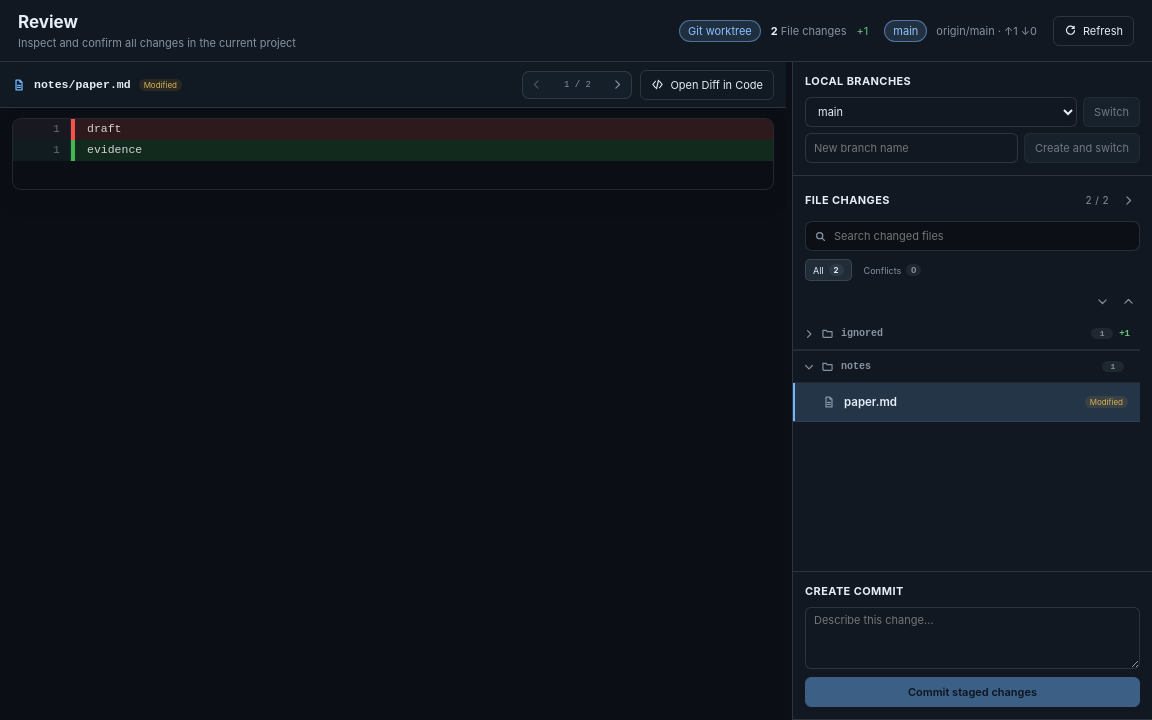
Scenario: GitWorkspace › shows ledger-only files inside a Git worktree
Step 1. Click the button titled "ignored" → x=862, y=334, box [793,318,1140,349]
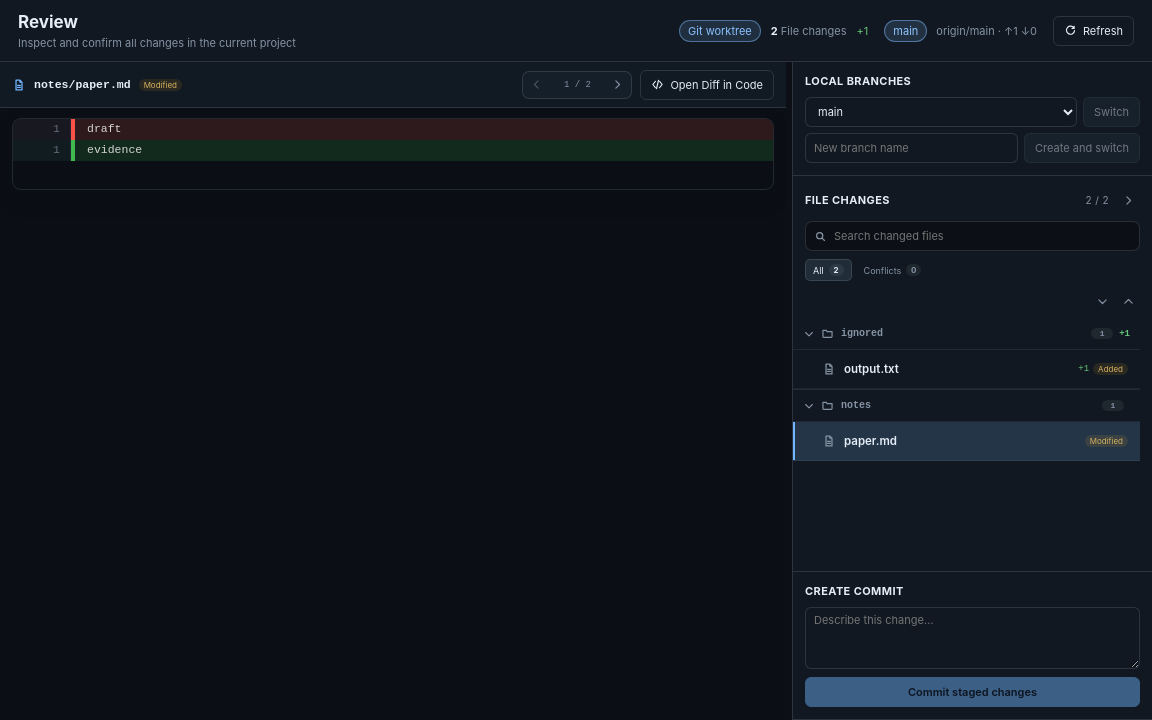
Step 2. Click the text "output.txt" → x=871, y=369, box [844,362,899,376]
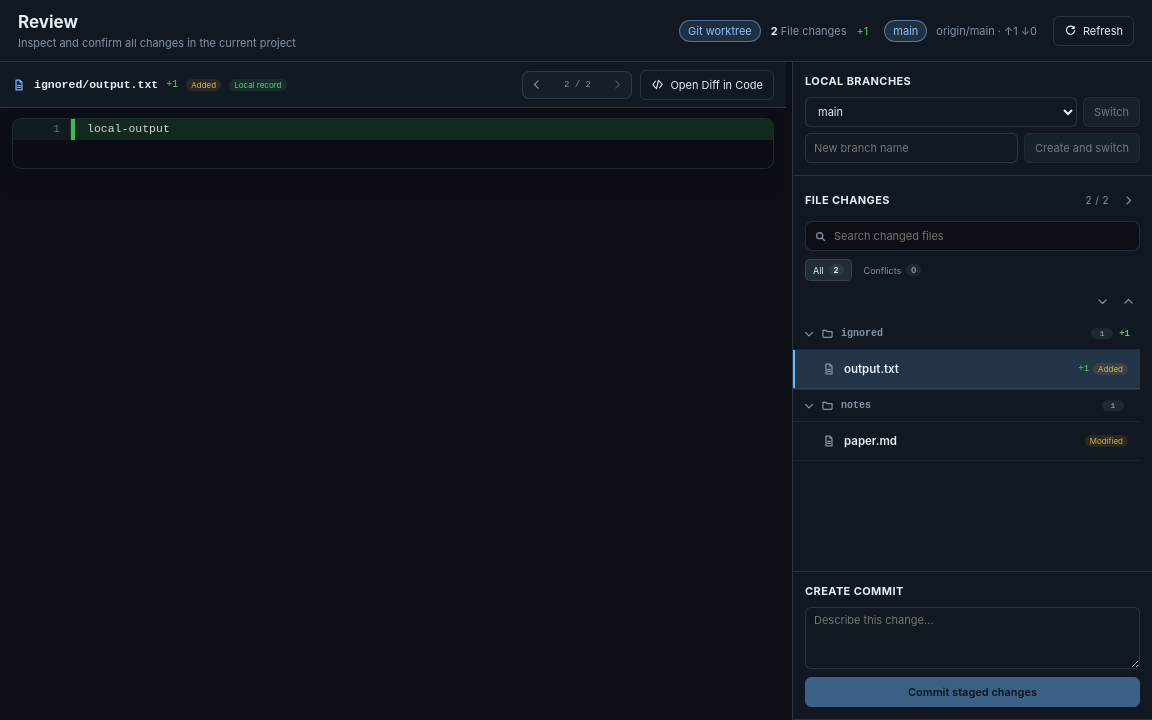
Now the text "local-output" is shown, box [87,122,170,135]
Now the text "Local record" is shown, box [229,78,286,90]
